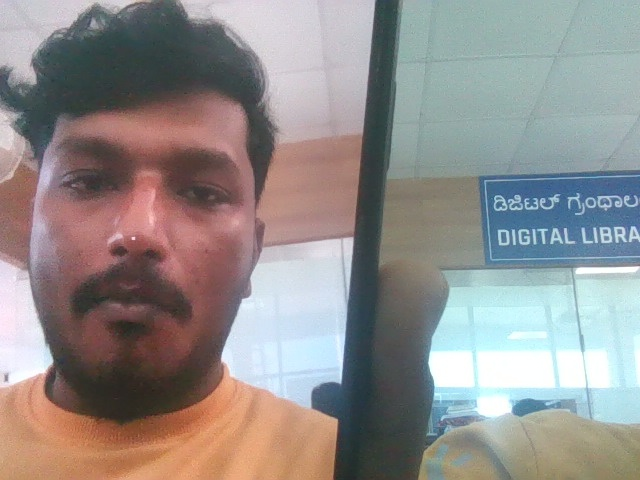fake: (0, 0, 313, 443)
